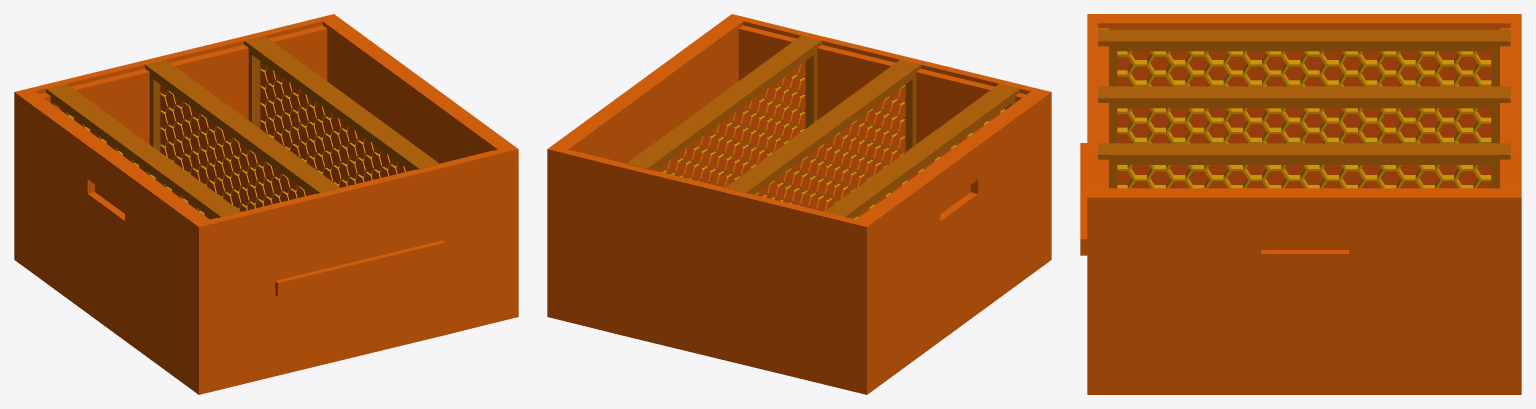
The model's file is StoreHalfFull.fbx.
3 views of the same model, side by side, from view 1: azimuth 30°, elevation 25°; view 2: azimuth 150°, elevation 25°; view 3: azimuth 270°, elevation 25° (orthographic). The views are drawn at different scales.
Visible parts, largest first — view 1: Frame; view 2: Frame; view 3: Frame.
Part boxes in pixels (x1,y1,x2,y2): Frame: (14, 14, 518, 394); Frame: (547, 14, 1051, 394); Frame: (1080, 14, 1521, 394).
Size of the model in its own units: 100 by 50.25 by 102.
